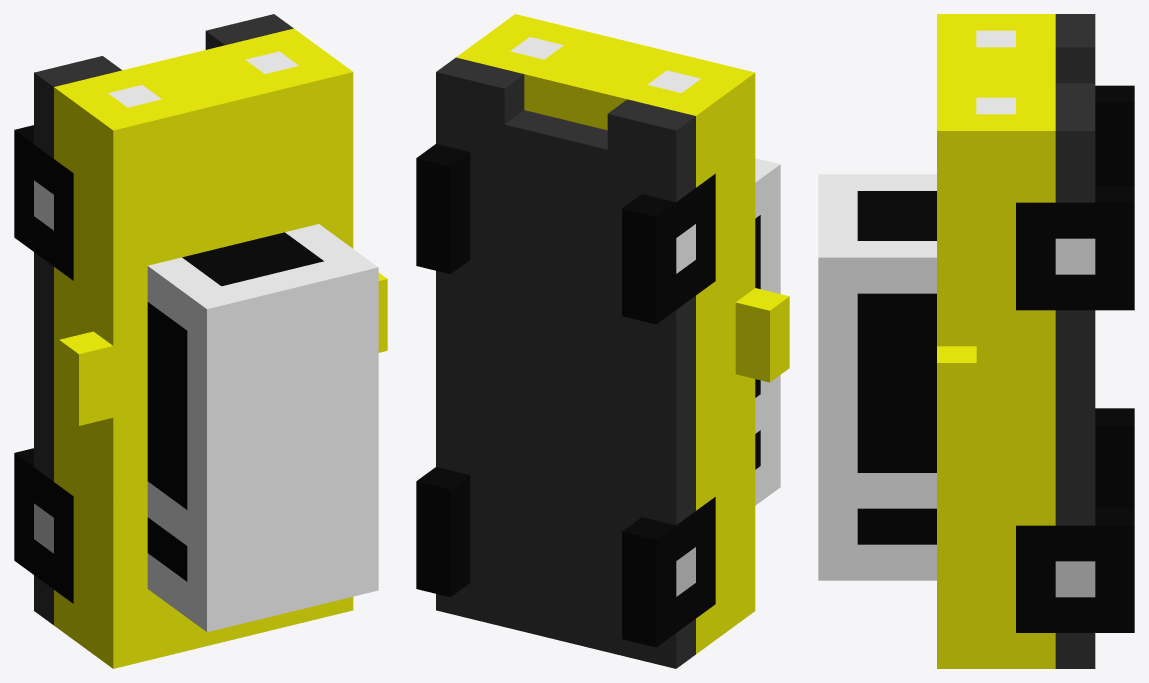
The model's file is VoxelCarA.obj.
3 views of the same model, side by side, from view 1: azimuth 30°, elevation 25°; view 2: azimuth 150°, elevation 25°; view 3: azimuth 270°, elevation 25° (orthographic).
Visible parts, largest first — view 1: obj1.005; view 2: obj1.005; view 3: obj1.005.
Part boxes in pixels (x1,y1,x2,y2): obj1.005: (14, 14, 387, 668); obj1.005: (416, 14, 789, 668); obj1.005: (818, 14, 1134, 668).
Size of the model in its own units: 0.27 by 0.45 by 0.24.
